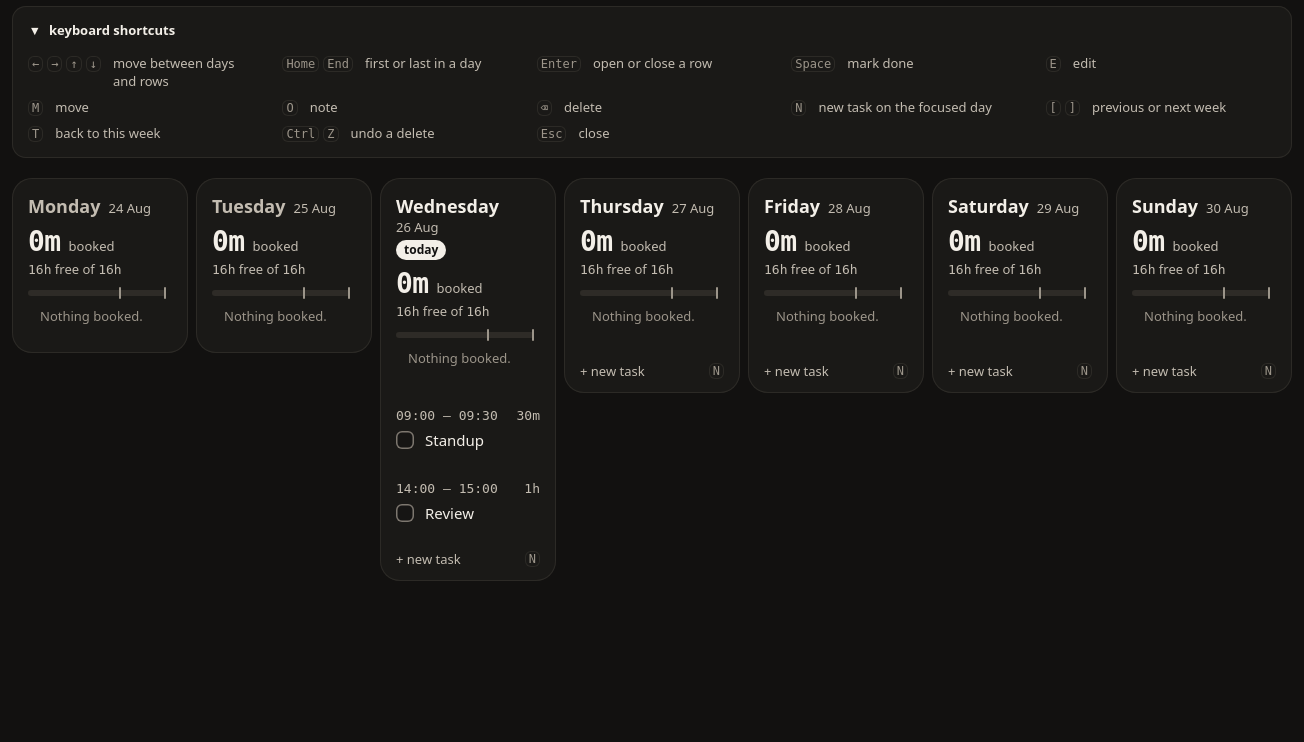
it: deleting a task that cannot come back › asks inside the row, and sends nothing before the second press
Click the cell "09:00 – 09:30 30m Standup" at (468, 430), box [384, 395, 552, 464]
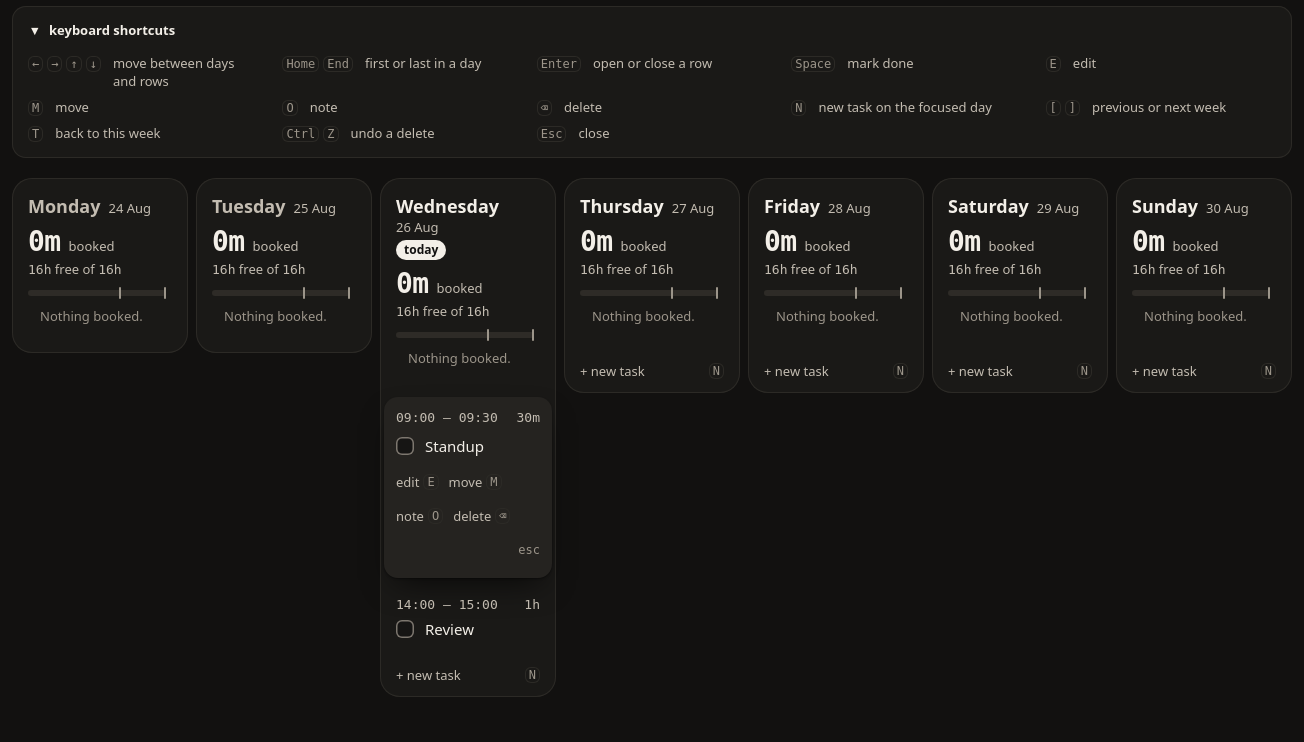
Expected: the cell "09:00 – 09:30 30m Standup edit E move M note O delete ⌫ esc" is shown, [384, 397, 552, 578]
Click the button "delete ⌫" at (482, 516), box [449, 500, 514, 532]
(page scrolled)
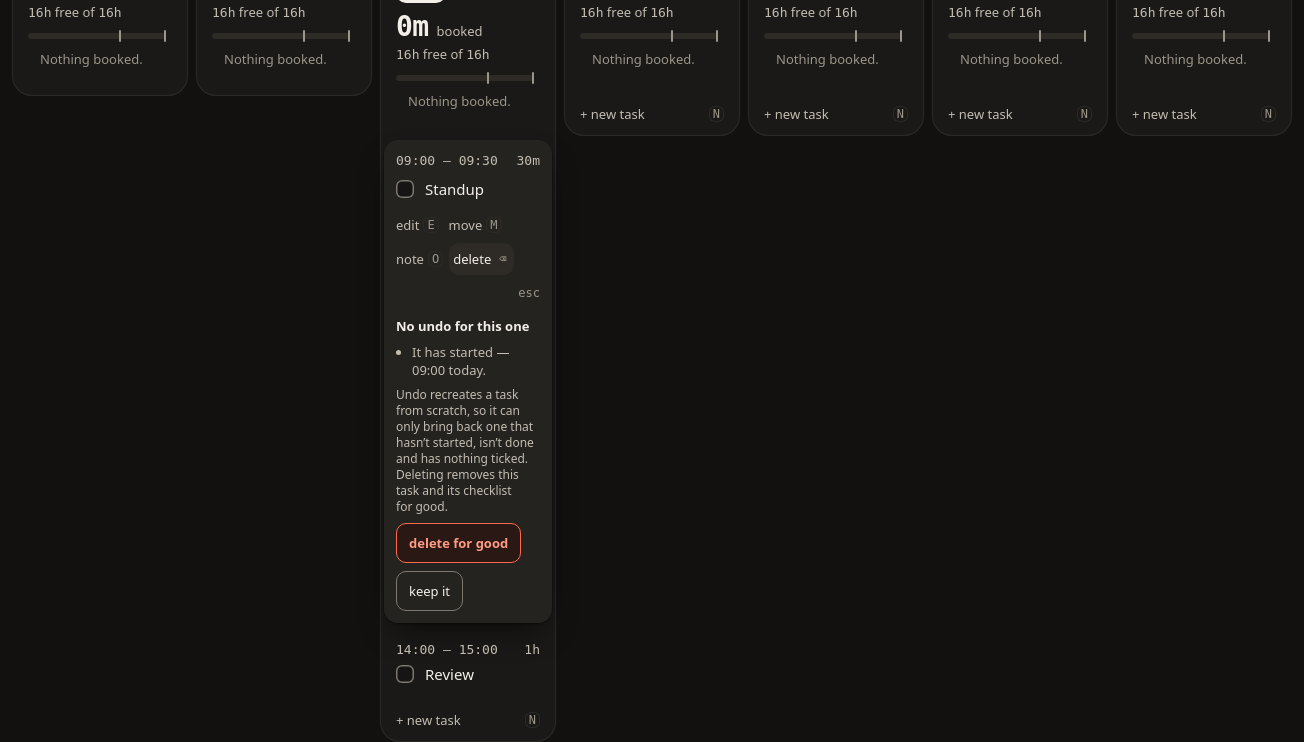
Result: the text "No undo for this one" is shown at [396, 317, 540, 335]
Click the button "delete for good" at (459, 543), box [396, 523, 521, 563]
(page scrolled)
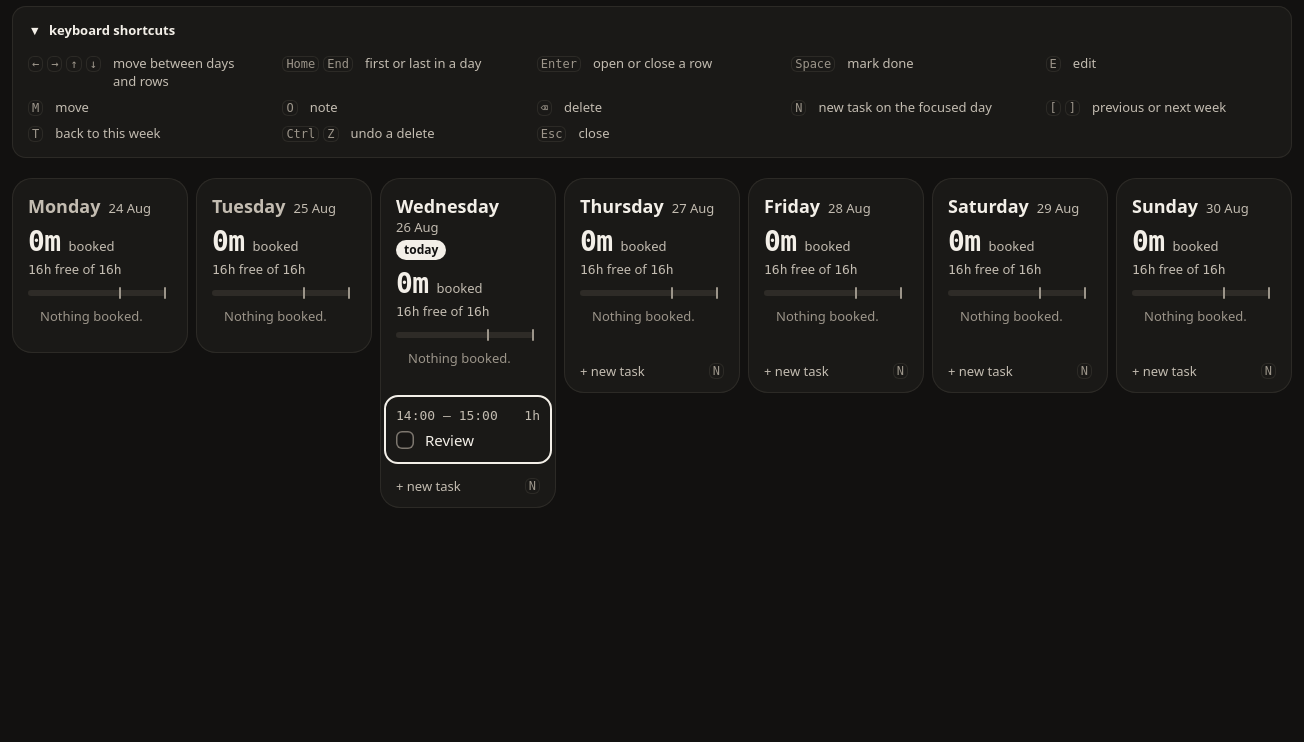
Result: the text "Standup" is gone
